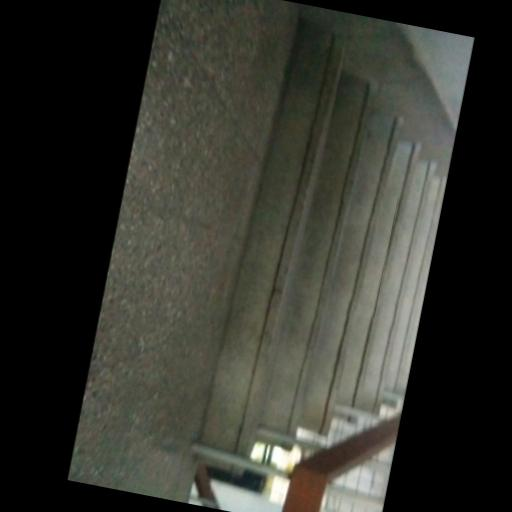stairs: (202, 23, 444, 452)
